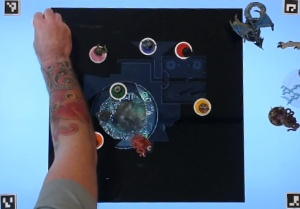blue: (136, 34, 159, 58)
green: (107, 81, 128, 102)
orange: (88, 130, 105, 149)
pink: (172, 39, 193, 61), (87, 44, 109, 65)
yellow: (187, 96, 211, 120)
